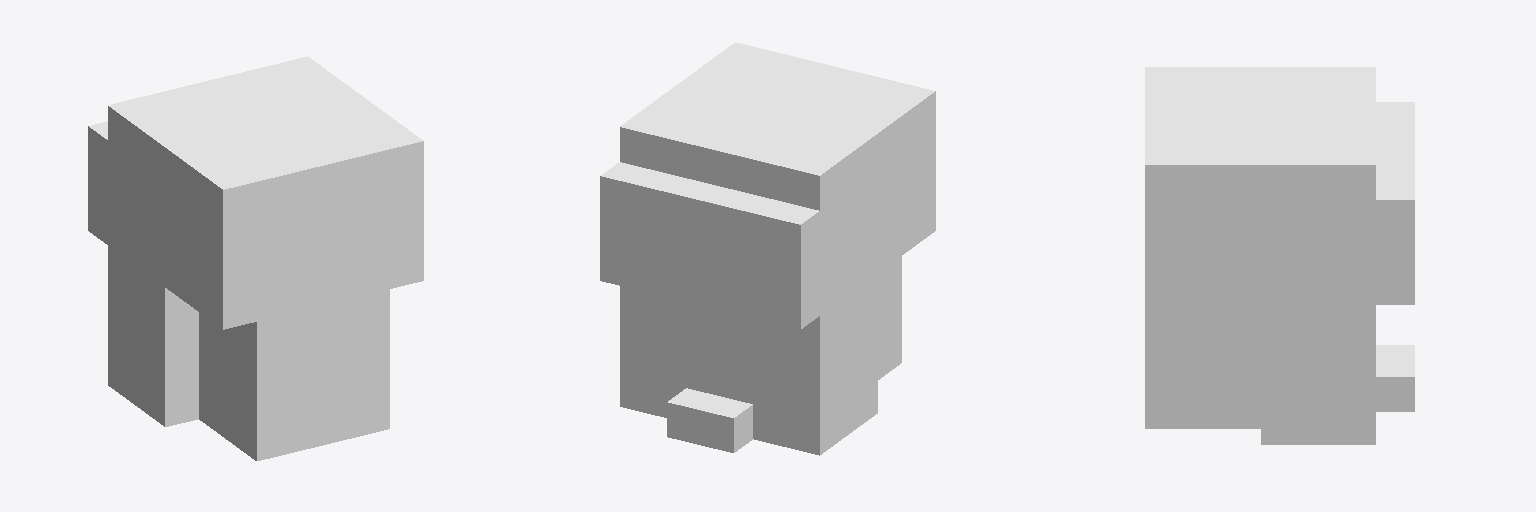
File: Skeleton1-4.obj
The picture shows the model from 3 angles: view 1: azimuth 30°, elevation 25°; view 2: azimuth 150°, elevation 25°; view 3: azimuth 270°, elevation 25°; orthographic projection.
Parts seen in each view (by area): view 1: object 1; view 2: object 1; view 3: object 1.
Part boxes in pixels (x1,y1,x2,y2): object 1: (88, 56, 423, 460); object 1: (600, 42, 935, 455); object 1: (1145, 67, 1414, 444).
Bounding box in the file's own units: 0.6 × 0.8 × 0.7.